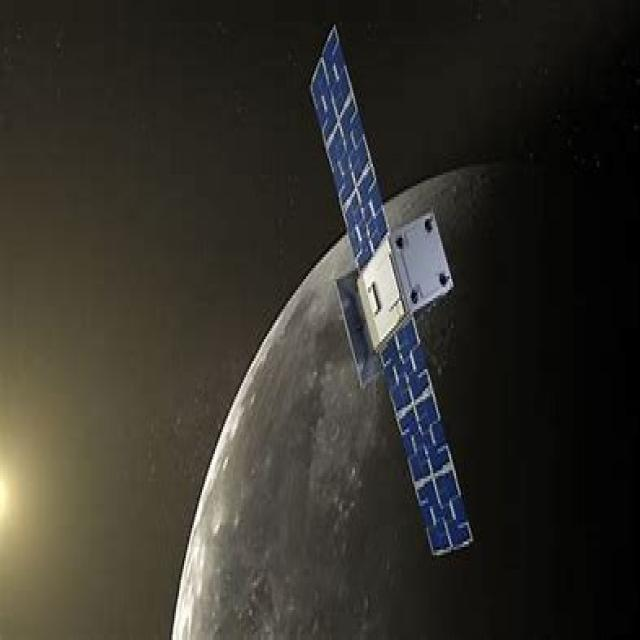satellite: (303, 18, 479, 561)
